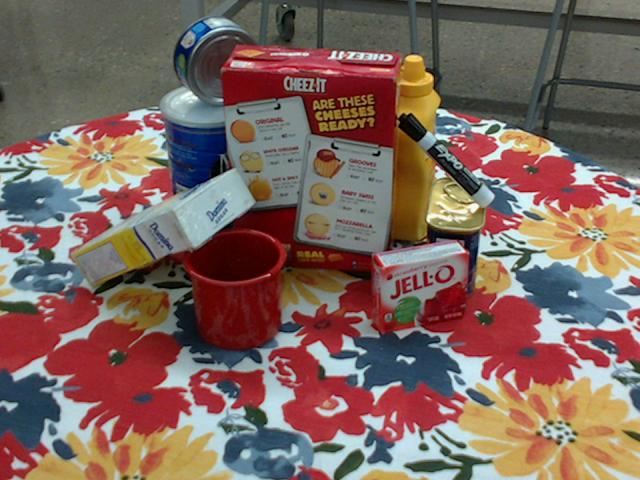cracker_box: (220, 45, 402, 273)
gelatin_box: (372, 239, 470, 334)
large_marker: (398, 113, 495, 208)
master_chef_can: (162, 82, 262, 240)
mug: (183, 226, 288, 349)
mustard_bottle: (384, 56, 441, 242)
potted_meat_can: (424, 177, 489, 300)
sugar_box: (68, 169, 255, 287)
tomato_soup_can: (314, 105, 374, 210)
tuna_fish_can: (173, 16, 260, 105)
